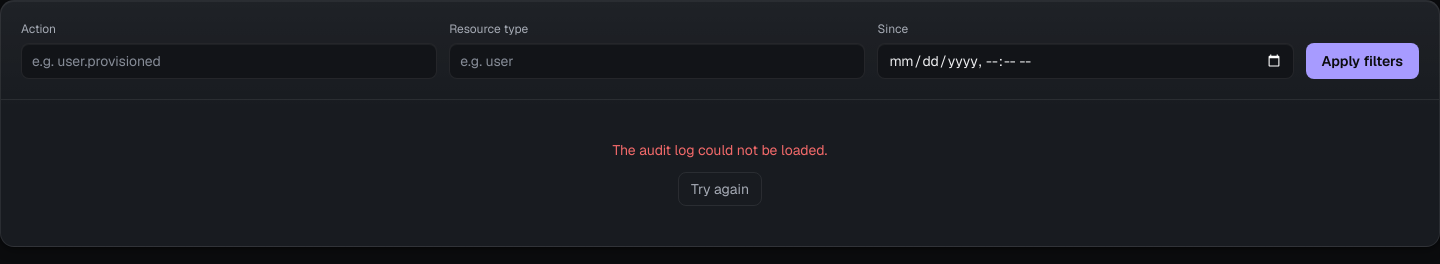
Test case: AuditLogExplorer › shows an error with retry
This screenshot has width=1440, height=264.
Click the button "Try again": [720, 189] box [678,172,762,206]
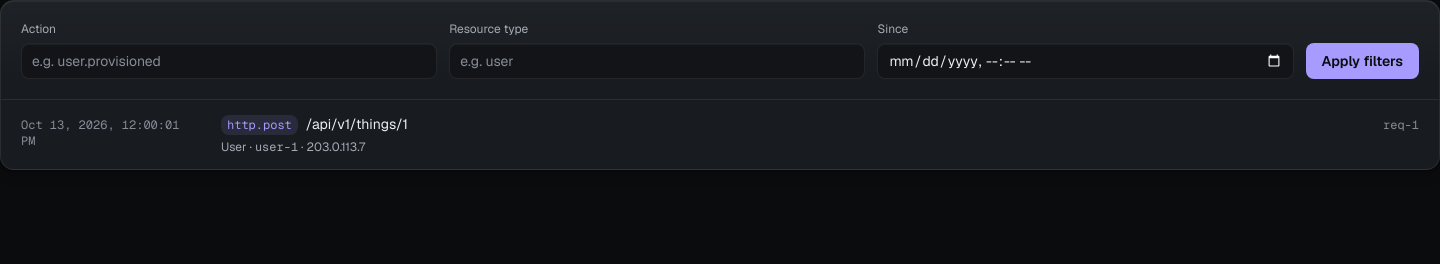
Result: the number of list items is 1 at [21,115,1419,155]
